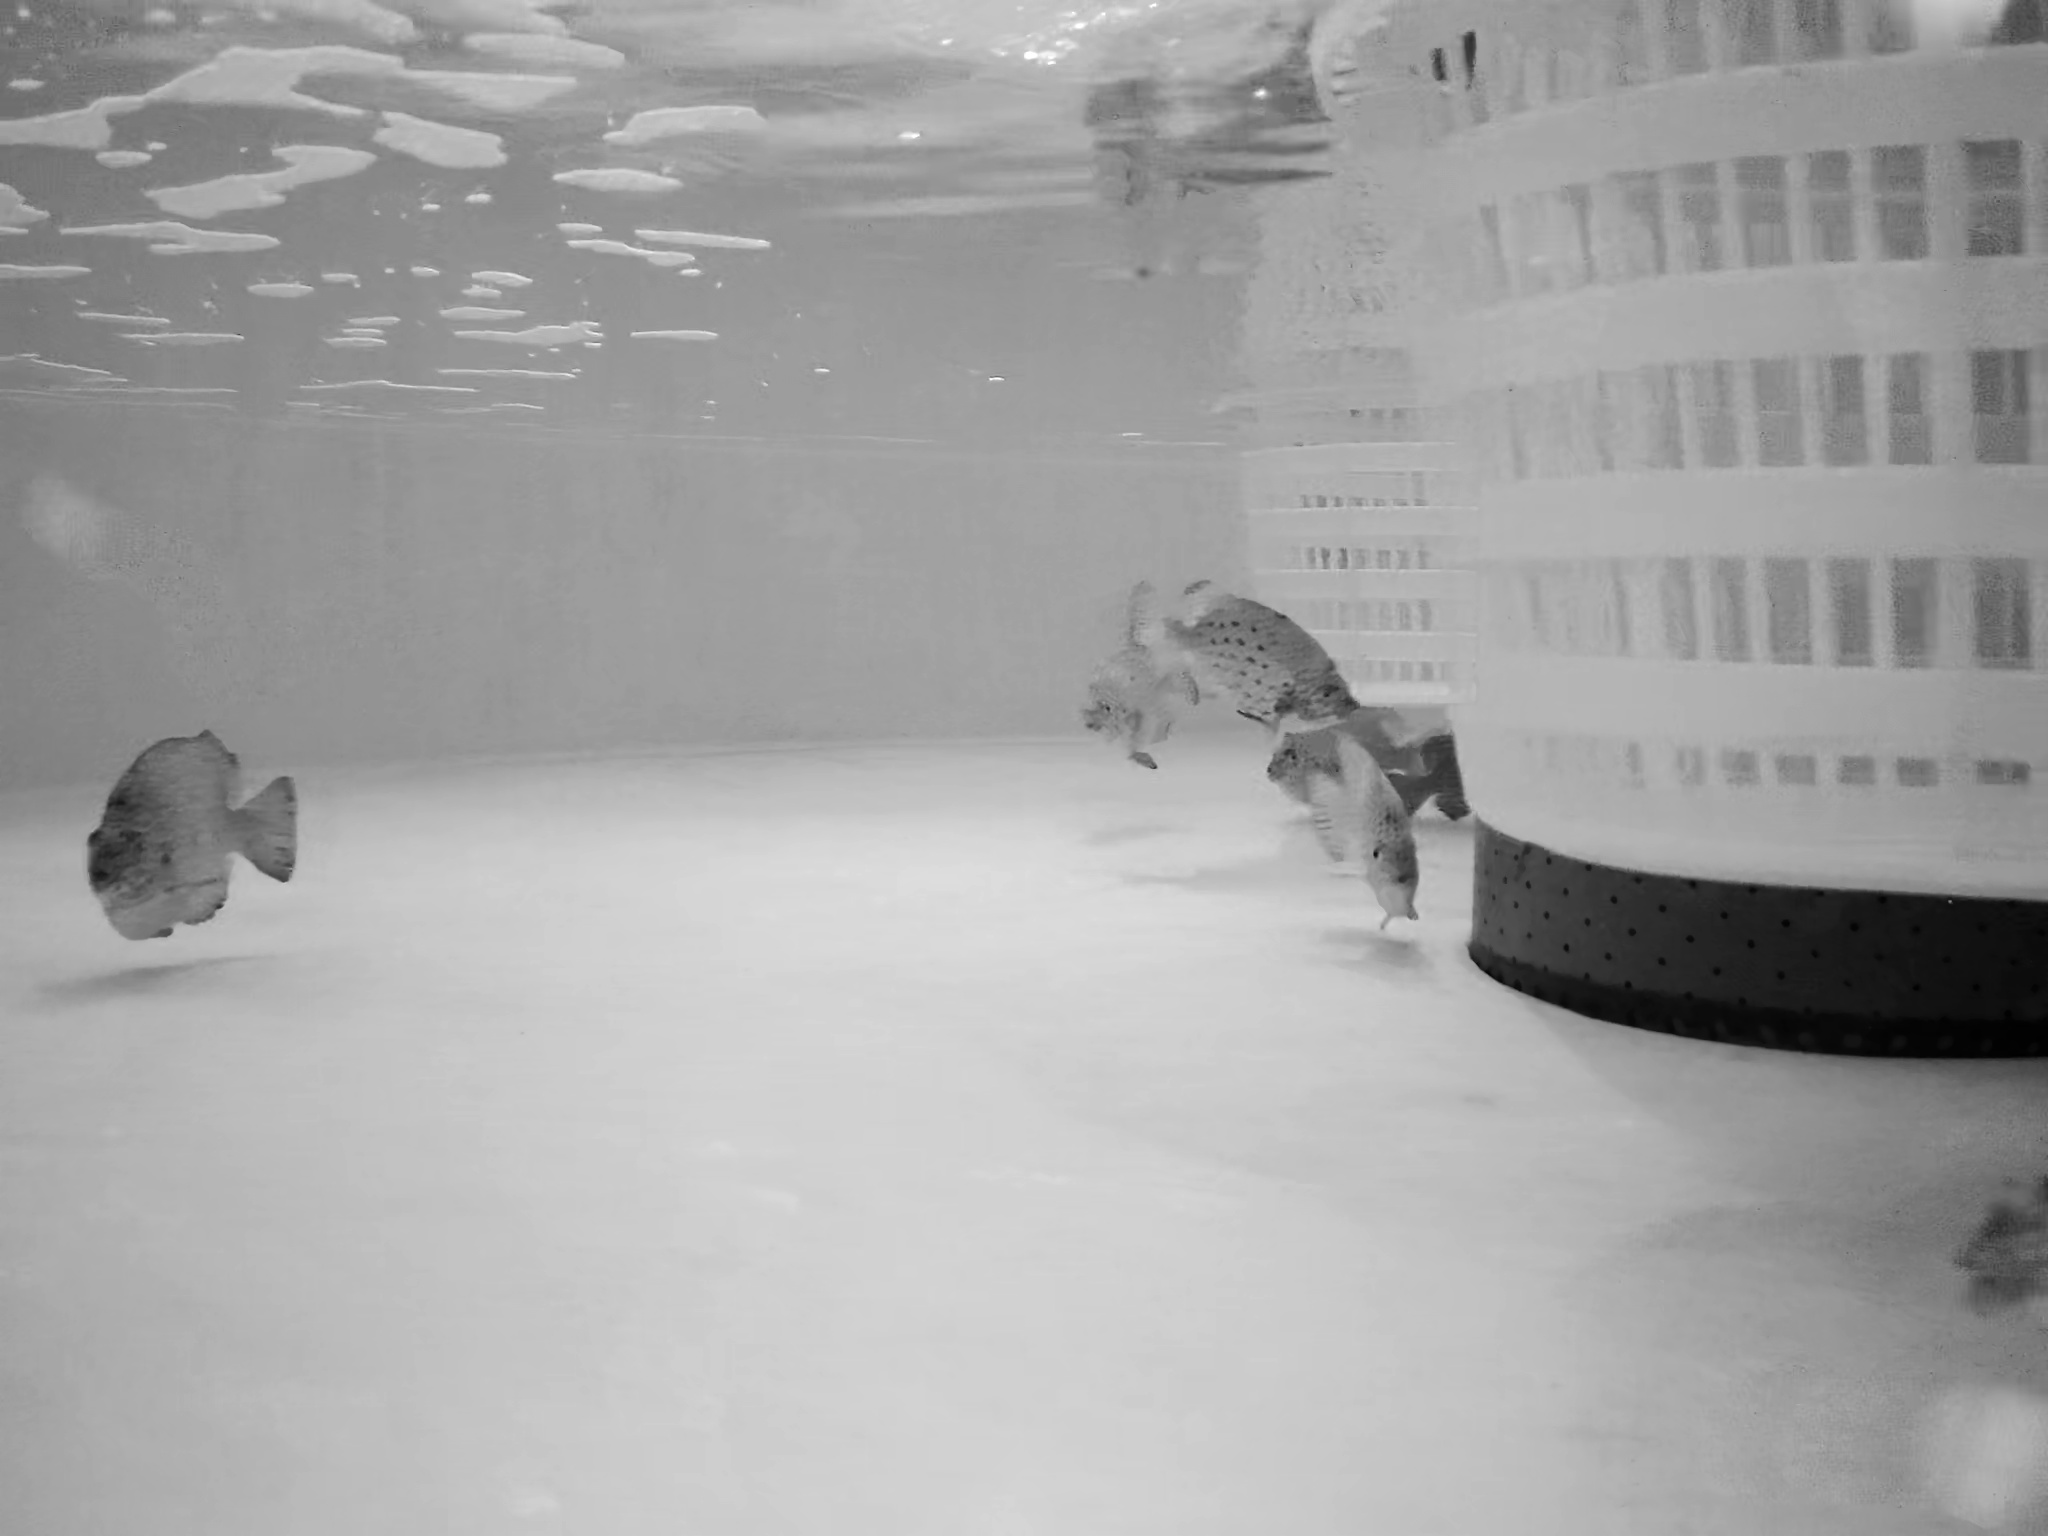fish: (85, 733, 313, 949), (1134, 586, 1363, 724), (1305, 750, 1435, 926), (1259, 724, 1474, 805), (1077, 645, 1200, 781), (1971, 1168, 2048, 1300)
